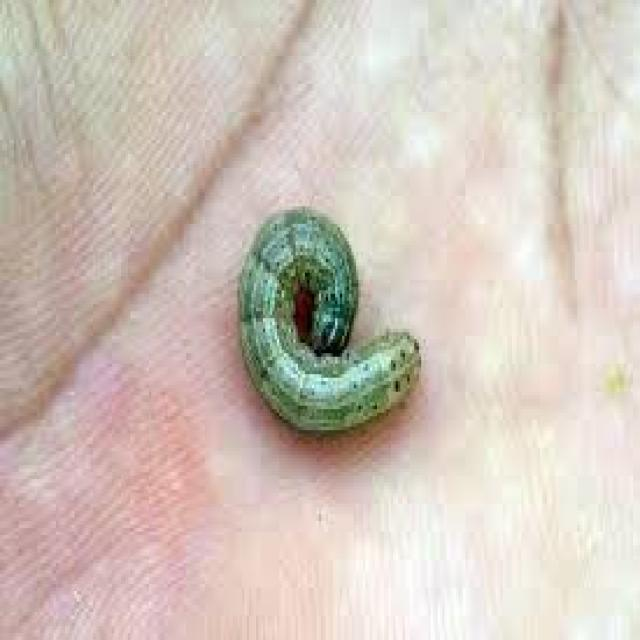Army Worm: (232, 200, 433, 452)
